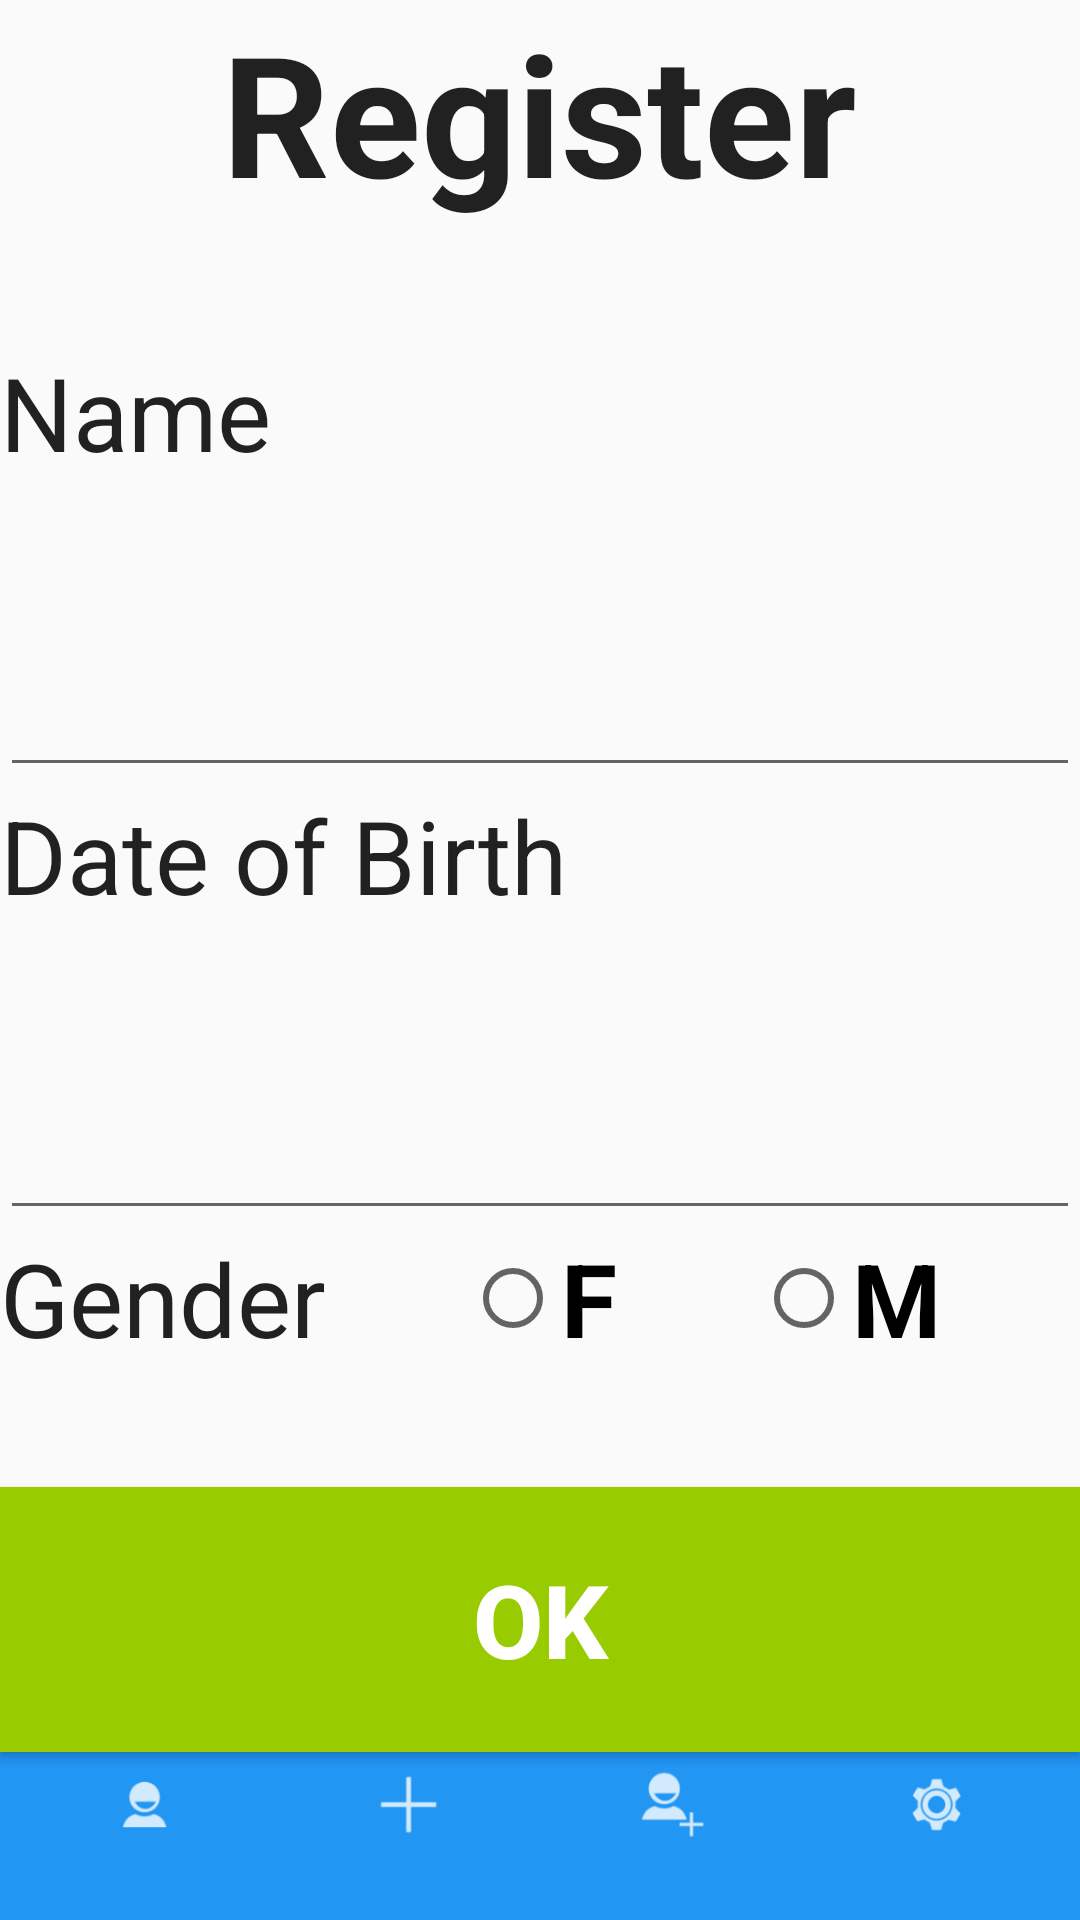

Icon click points for this 1080 × 1920 phone screenshot, format point (x, y):
Contacts: point (672, 1804)
Settings: point (936, 1804)
User: point (145, 1805)
